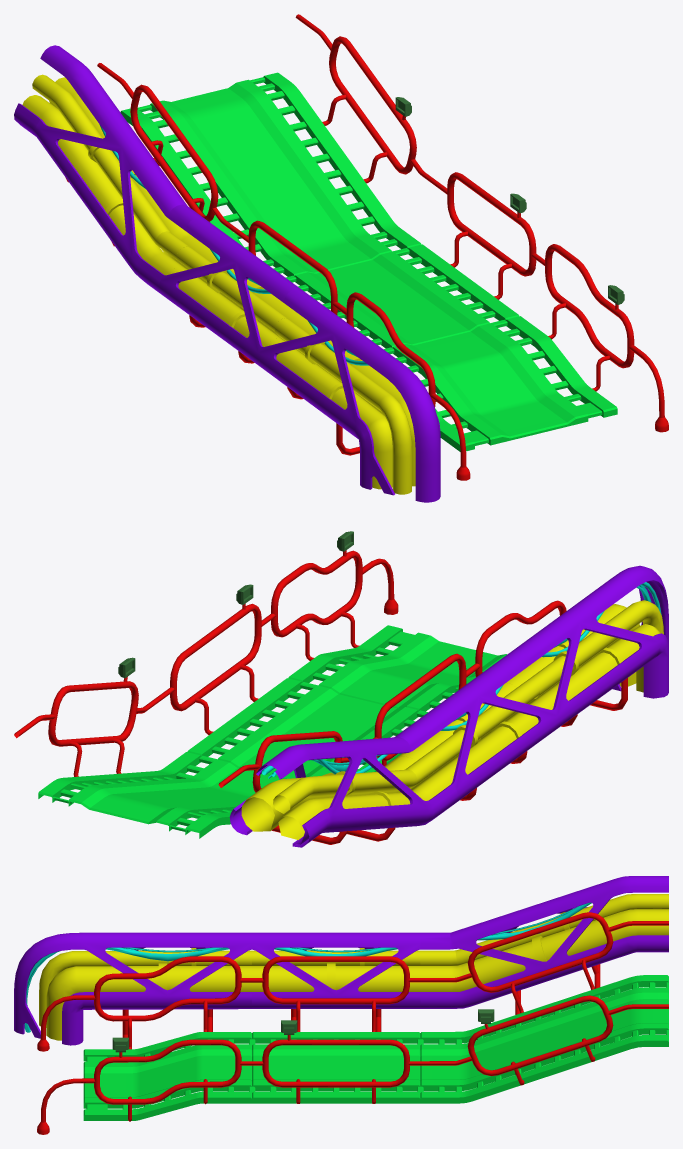
The model's file is Bridge.fbx.
3 renders of one model, top to bottom at view 1: azimuth 30°, elevation 25°; view 2: azimuth 150°, elevation 25°; view 3: azimuth 270°, elevation 25°, orthographic. The views are drawn at different scales.
Visible parts, largest first — view 1: Bridge, SmartCombine_3; view 2: Bridge, SmartCombine_3; view 3: Bridge, SmartCombine_3.
Part boxes in pixels (x1,y1,x2,y2): Bridge: (14, 14, 541, 367); SmartCombine_3: (256, 244, 668, 502); Bridge: (14, 584, 558, 847); SmartCombine_3: (265, 531, 668, 731); Bridge: (252, 876, 668, 1103); SmartCombine_3: (14, 932, 251, 1134).
Bounding box in the file's own units: 5.65 × 3.29 × 12.84.
